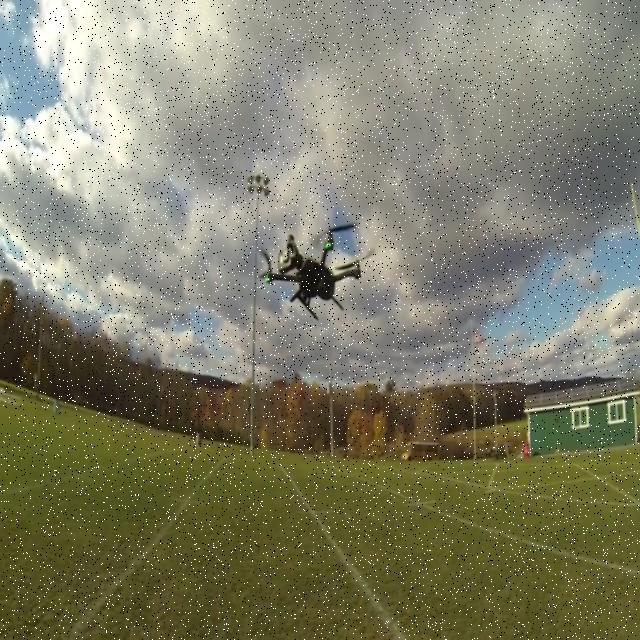UAV: (258, 222, 358, 321)
